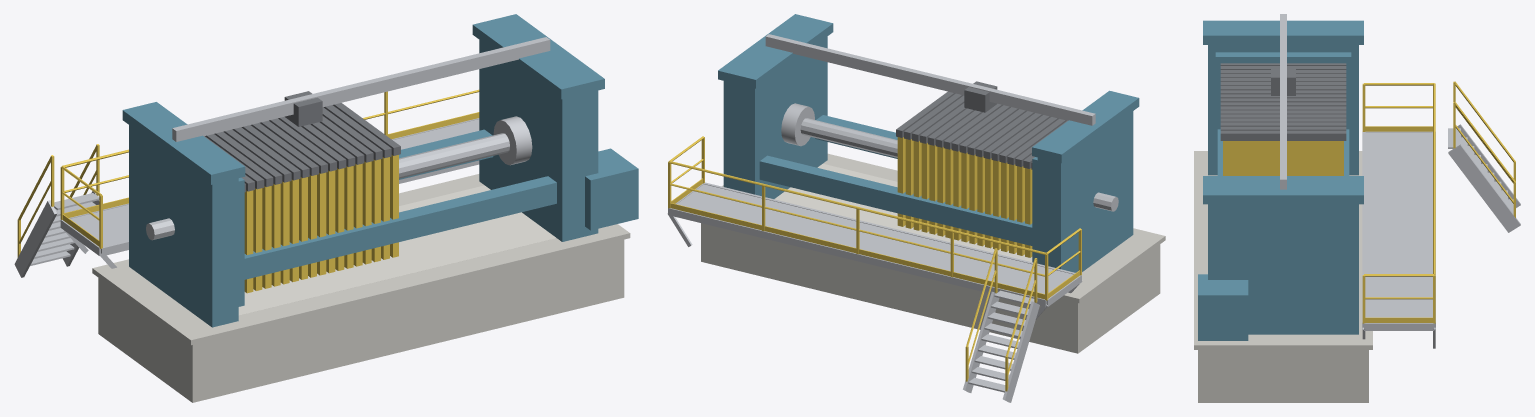
File: ore-processing-and-haulage-plant-filter-press-d8f78a69.glb
3 renders of one model, left to right at view 1: azimuth 30°, elevation 25°; view 2: azimuth 150°, elevation 25°; view 3: azimuth 270°, elevation 25°, orthographic. The views are drawn at different scales.
Parts seen in each view (by area): view 1: filter-press; view 2: filter-press; view 3: filter-press.
Part boxes in pixels (x1=…): filter-press: x1=14, y1=14, x2=638, y2=402; filter-press: x1=667, y1=14, x2=1165, y2=402; filter-press: x1=1194, y1=14, x2=1520, y2=402.
Bounding box in the file's own units: 9.38 × 4.62 × 6.5.
